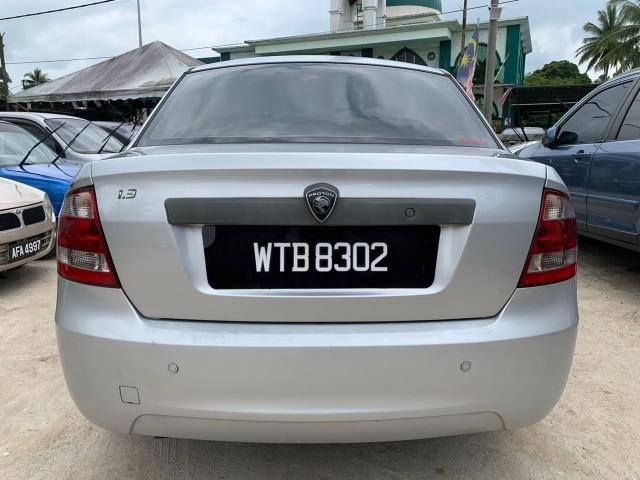License_Plate: (216, 231, 411, 288), (7, 233, 47, 264)
car: (59, 59, 582, 446), (540, 63, 640, 254)
